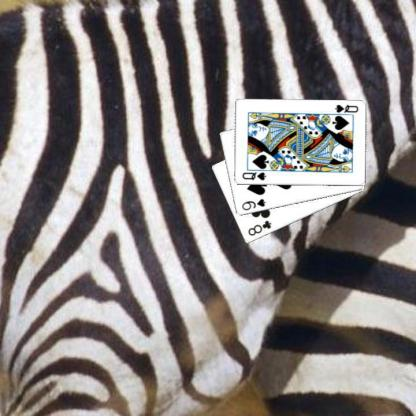8C: (245, 218, 273, 237)
9S: (239, 196, 267, 212)
QS: (240, 170, 267, 182), (332, 102, 359, 114)
